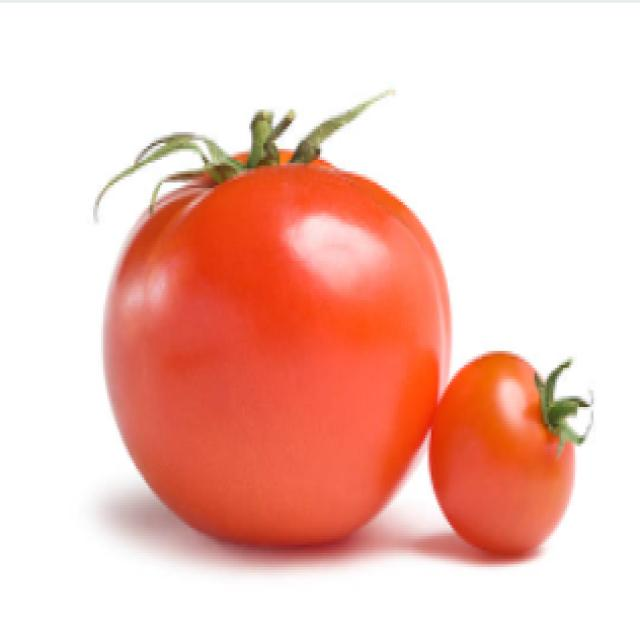Tomato: (79, 110, 449, 540), (400, 317, 604, 553)
